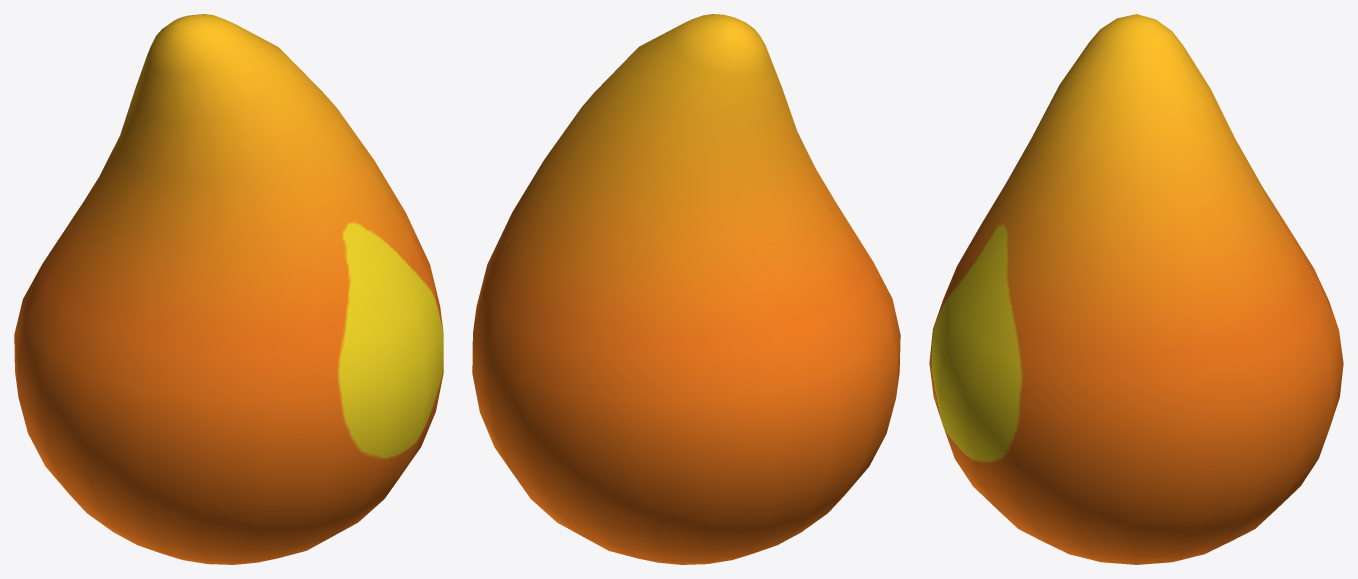
File: fire.fbx
3 views of the same model, side by side, from view 1: azimuth 30°, elevation 25°; view 2: azimuth 150°, elevation 25°; view 3: azimuth 270°, elevation 25° (orthographic). The views are drawn at different scales.
Parts seen in each view (by area): view 1: pSphere41; view 2: pSphere41; view 3: pSphere41.
Boxes of the visible parts, x1,y1,x2,y2 form: pSphere41: (14, 14, 443, 564); pSphere41: (472, 14, 900, 564); pSphere41: (929, 14, 1343, 564).
Size of the model in its own units: 78.45 by 107 by 78.54.
